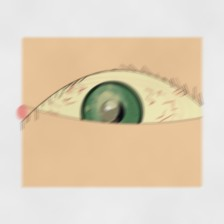corneal_ulcer: (83, 86, 133, 127)
